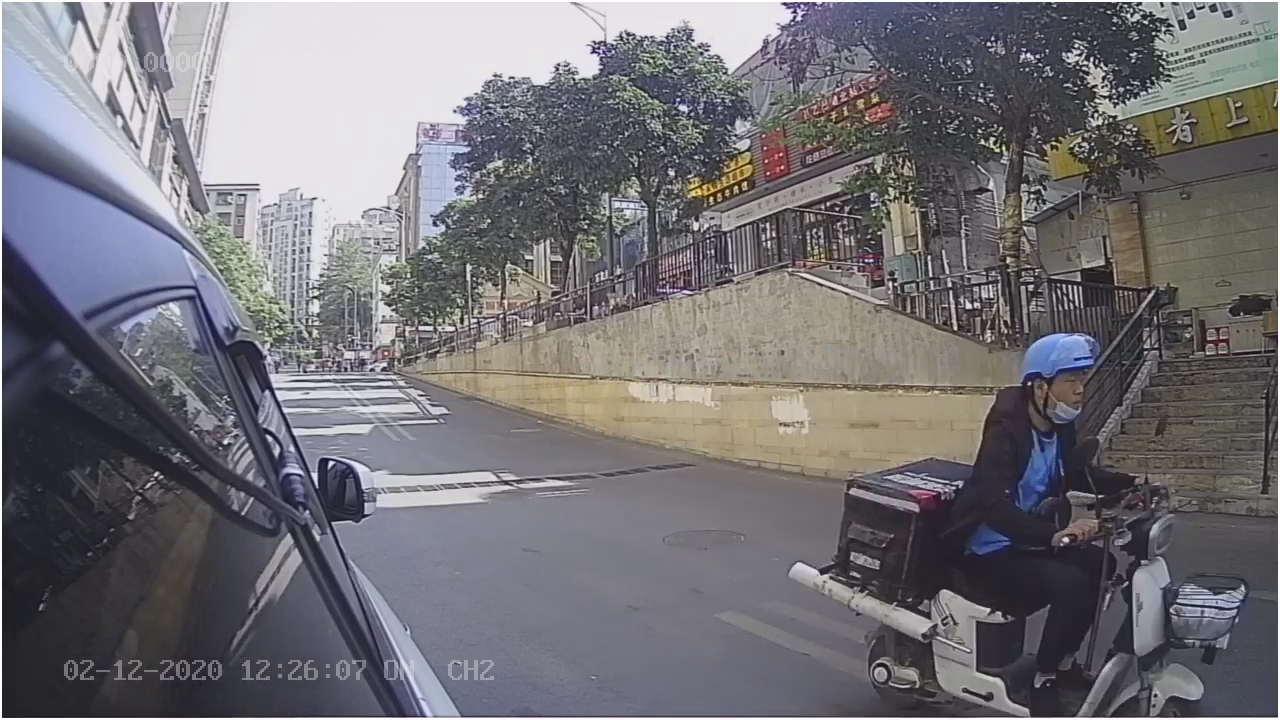person: (964, 320, 1129, 537)
